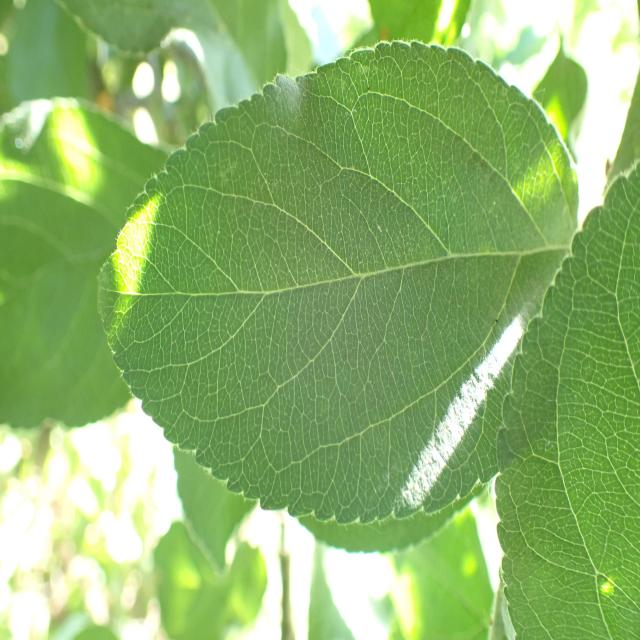healthy: (97, 38, 579, 526), (491, 157, 640, 640), (1, 94, 174, 432)
